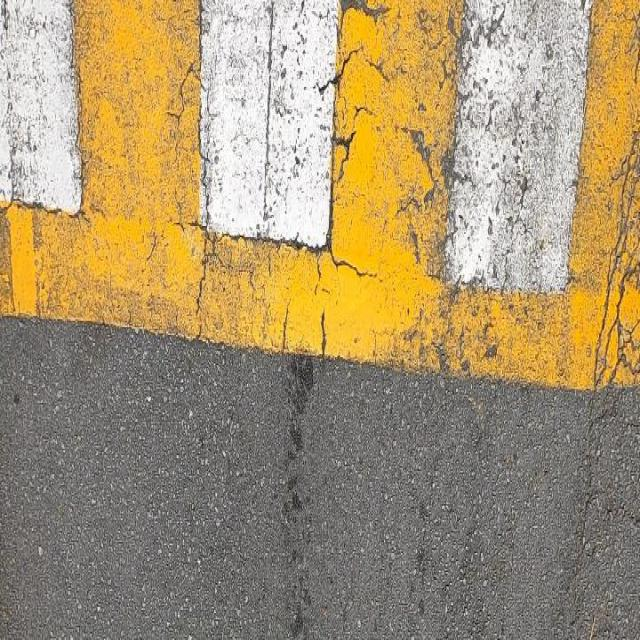cracks: (307, 36, 372, 414), (169, 36, 230, 391), (593, 18, 640, 464)
